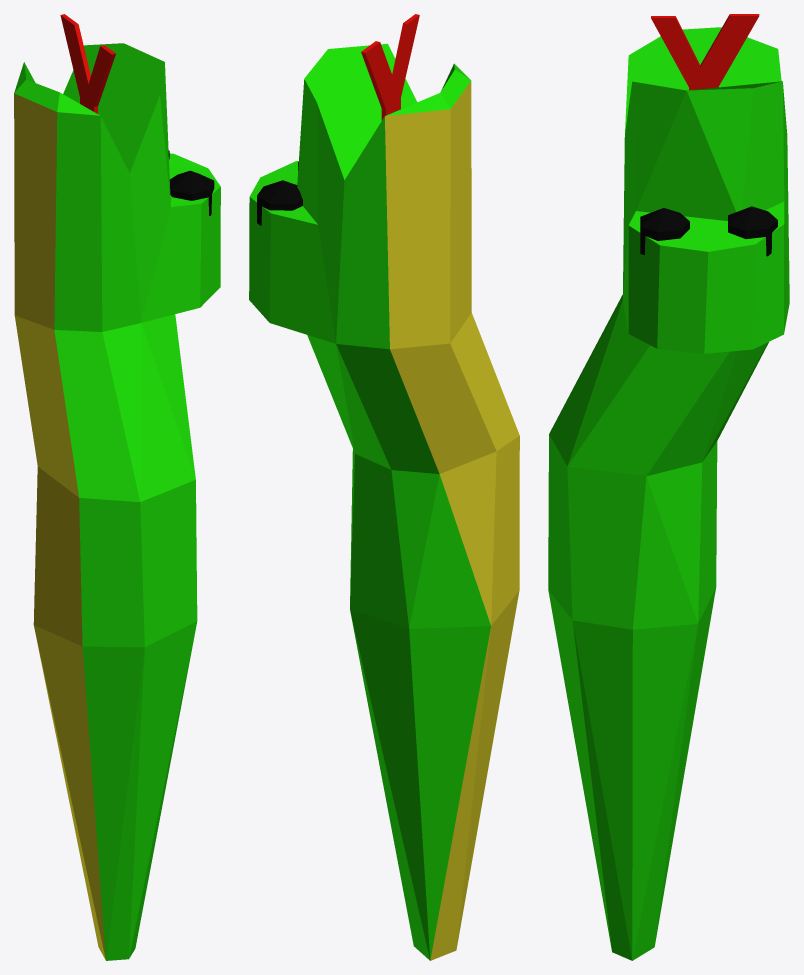
File: fellasnakeplush1.fbx
The picture shows the model from 3 angles, left to right: view 1: azimuth 30°, elevation 25°; view 2: azimuth 150°, elevation 25°; view 3: azimuth 270°, elevation 25°; orthographic projection. The views are drawn at different scales.
Parts seen in each view (by area): view 1: Cylinder, Plane, Sphere.001; view 2: Cylinder, Plane, Sphere; view 3: Cylinder, Plane, Sphere.001, Sphere.
Boxes of the visible parts, x1,y1,x2,y2 form: Cylinder: [14, 43, 220, 960]; Plane: [60, 14, 115, 113]; Sphere.001: [169, 170, 214, 215]; Cylinder: [249, 43, 519, 960]; Plane: [361, 14, 419, 120]; Sphere: [257, 180, 302, 225]; Cylinder: [548, 27, 789, 960]; Plane: [651, 14, 759, 90]; Sphere.001: [640, 208, 689, 254]; Sphere: [728, 206, 777, 256].
Size of the model in its own units: 284 by 1227 by 286.
